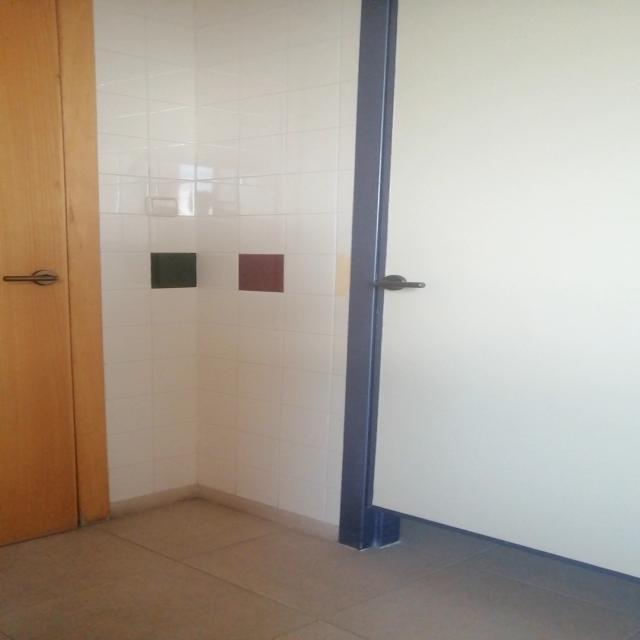door_handle: (364, 278, 427, 291), (0, 275, 63, 283)
